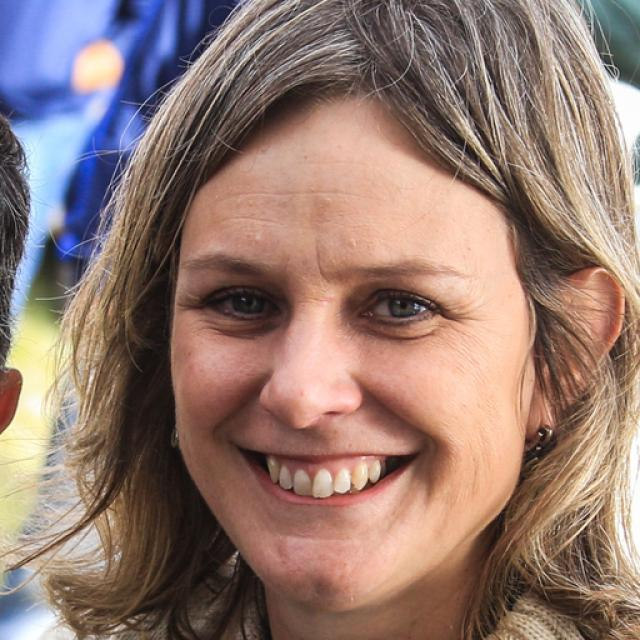Acne: (249, 230, 264, 248), (345, 235, 358, 250), (318, 196, 333, 208)
Dark Circle: (204, 306, 286, 337), (353, 314, 443, 342)
Wrinkle: (215, 188, 374, 201), (217, 213, 283, 226), (315, 242, 329, 279)
